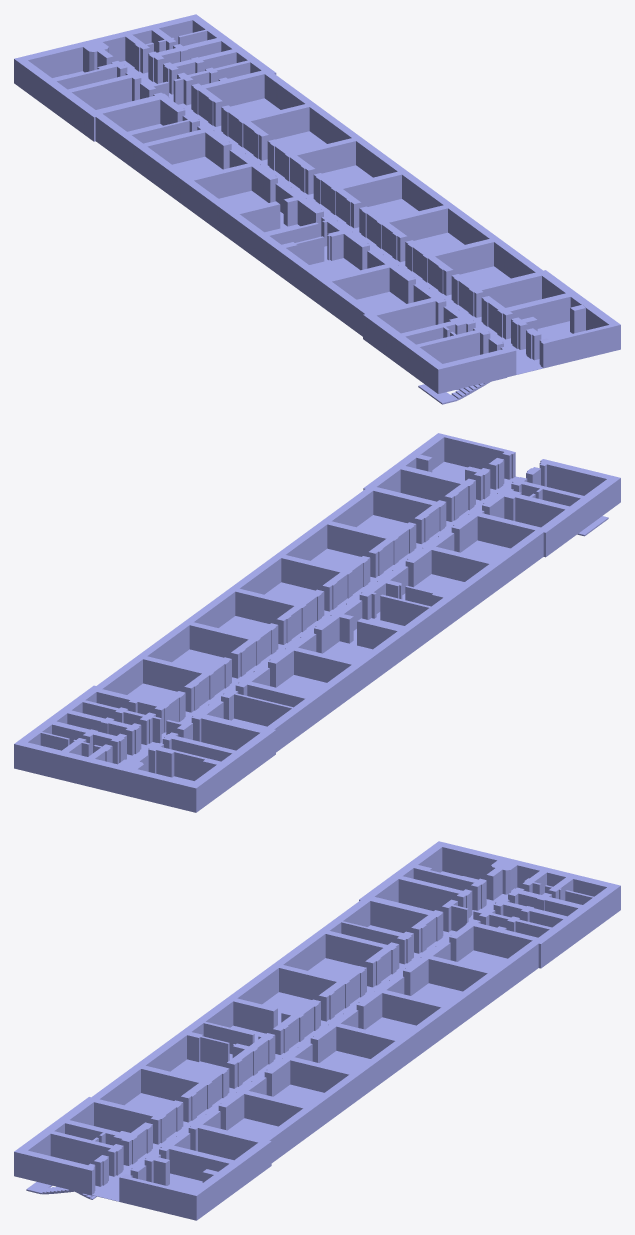
File: 3CampusCasing3F.glb
The picture shows the model from 3 angles, top to bottom: view 1: azimuth 30°, elevation 25°; view 2: azimuth 150°, elevation 25°; view 3: azimuth 330°, elevation 25°; orthographic projection.
Parts seen in each view (by area): view 1: Floor_3.005; view 2: Floor_3.005; view 3: Floor_3.005.
Part boxes in pixels (left/top/right/bottom): Floor_3.005: left=14, top=14, right=620, bottom=404; Floor_3.005: left=14, top=433, right=620, bottom=812; Floor_3.005: left=14, top=841, right=620, bottom=1220.
Bounding box in the file's own units: 0.6761 × 0.1754 × 2.72.
